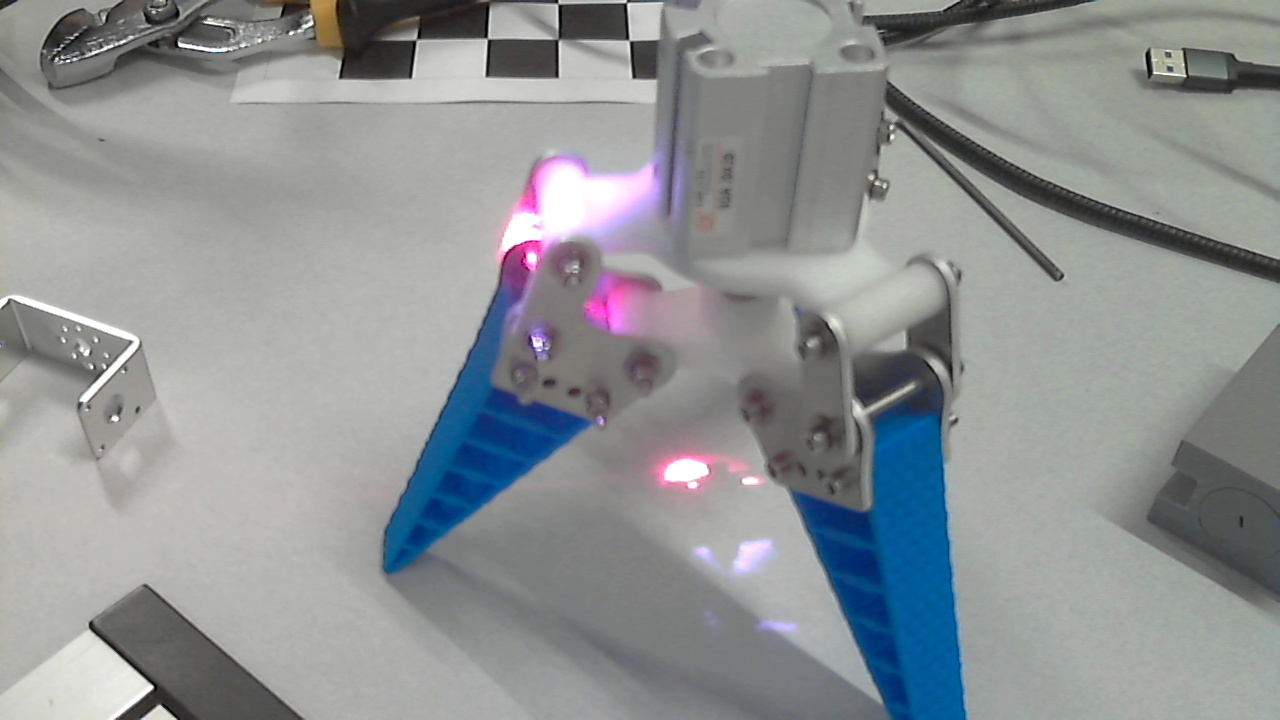Object precision screwdriver - Material rubber - Color black and orange - Pdfnam: (529, 119, 671, 357)
